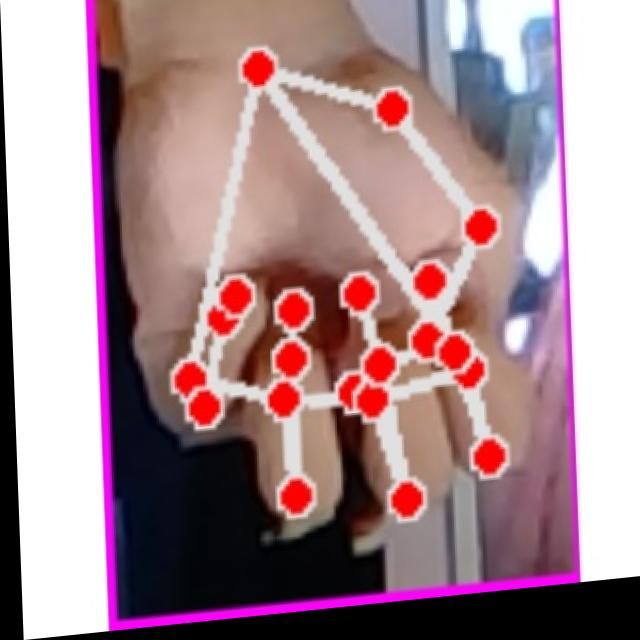M: (113, 0, 546, 559)
